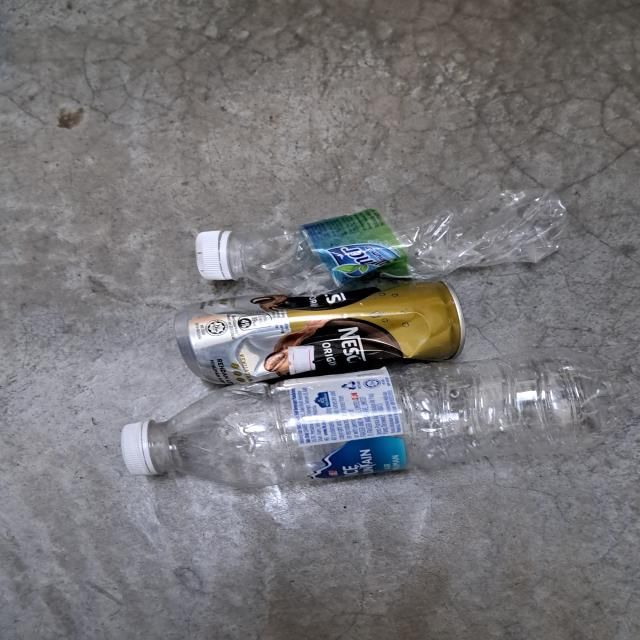can: (171, 282, 466, 386)
plastic bottle: (149, 349, 622, 486), (232, 188, 566, 297)
plastic bottle cap: (196, 230, 232, 281), (120, 422, 154, 476)
